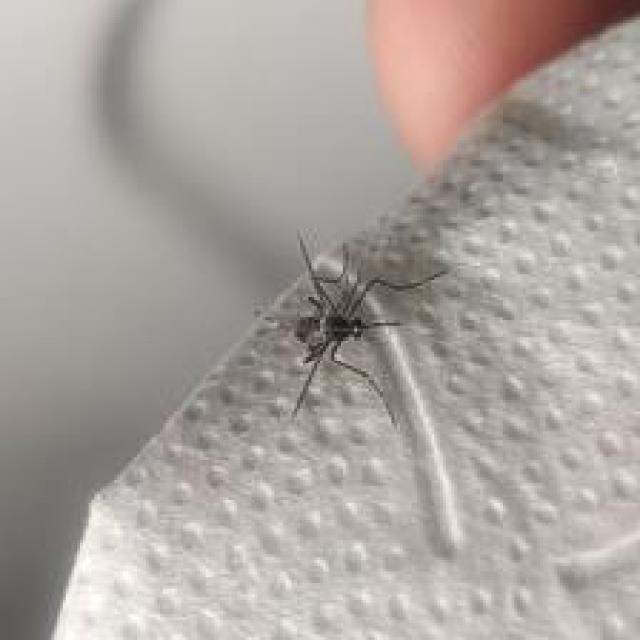Aedes albopictus: (284, 228, 450, 428)
